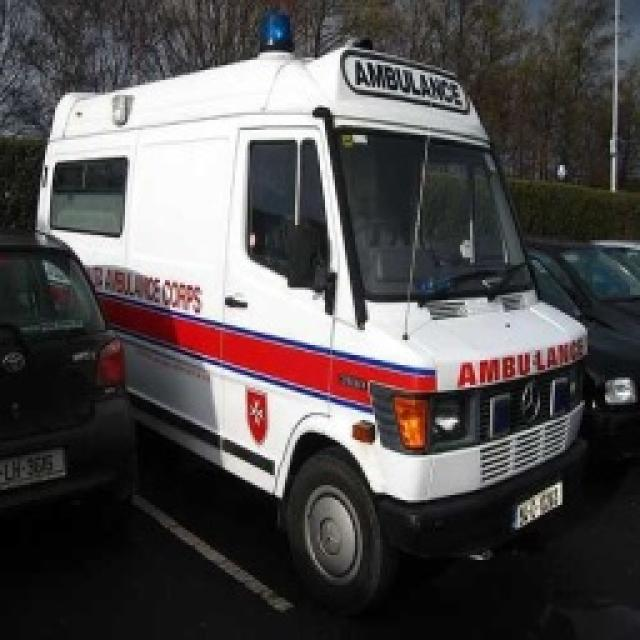emergency-vehicle: (30, 11, 593, 616)
